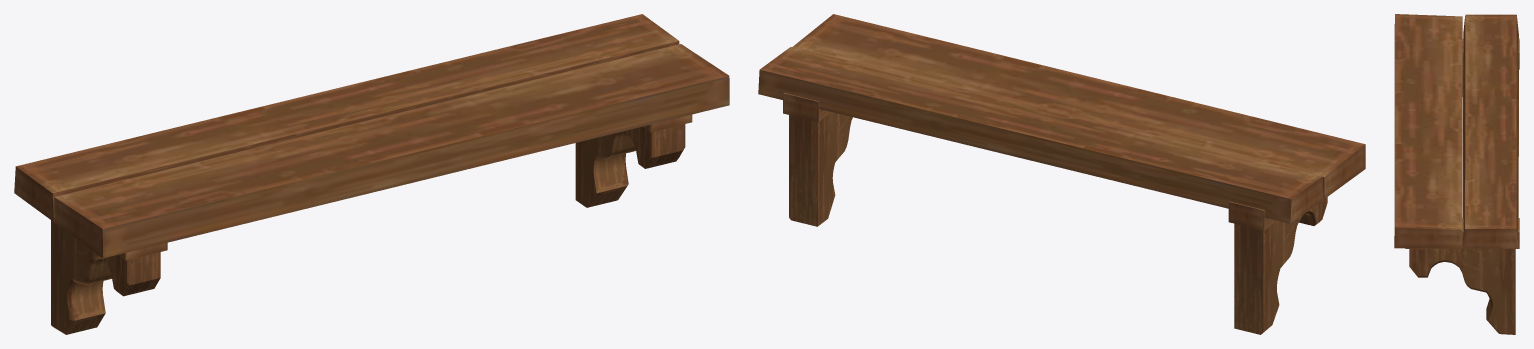
Rendered from Shelf_Simple.glb.
3 renders of one model, left to right at view 1: azimuth 30°, elevation 25°; view 2: azimuth 150°, elevation 25°; view 3: azimuth 270°, elevation 25°, orthographic. The views are drawn at different scales.
Visible parts, largest first — view 1: Shelf_Simple; view 2: Shelf_Simple; view 3: Shelf_Simple.
Part boxes in pixels (box(x1,y1,x2,y2)): Shelf_Simple: box(14, 14, 729, 334); Shelf_Simple: box(758, 14, 1365, 334); Shelf_Simple: box(1394, 14, 1519, 334).
Size of the model in its own units: 1.18 by 0.3087 by 0.2922.
Materials: 1 (1 with a texture image).
